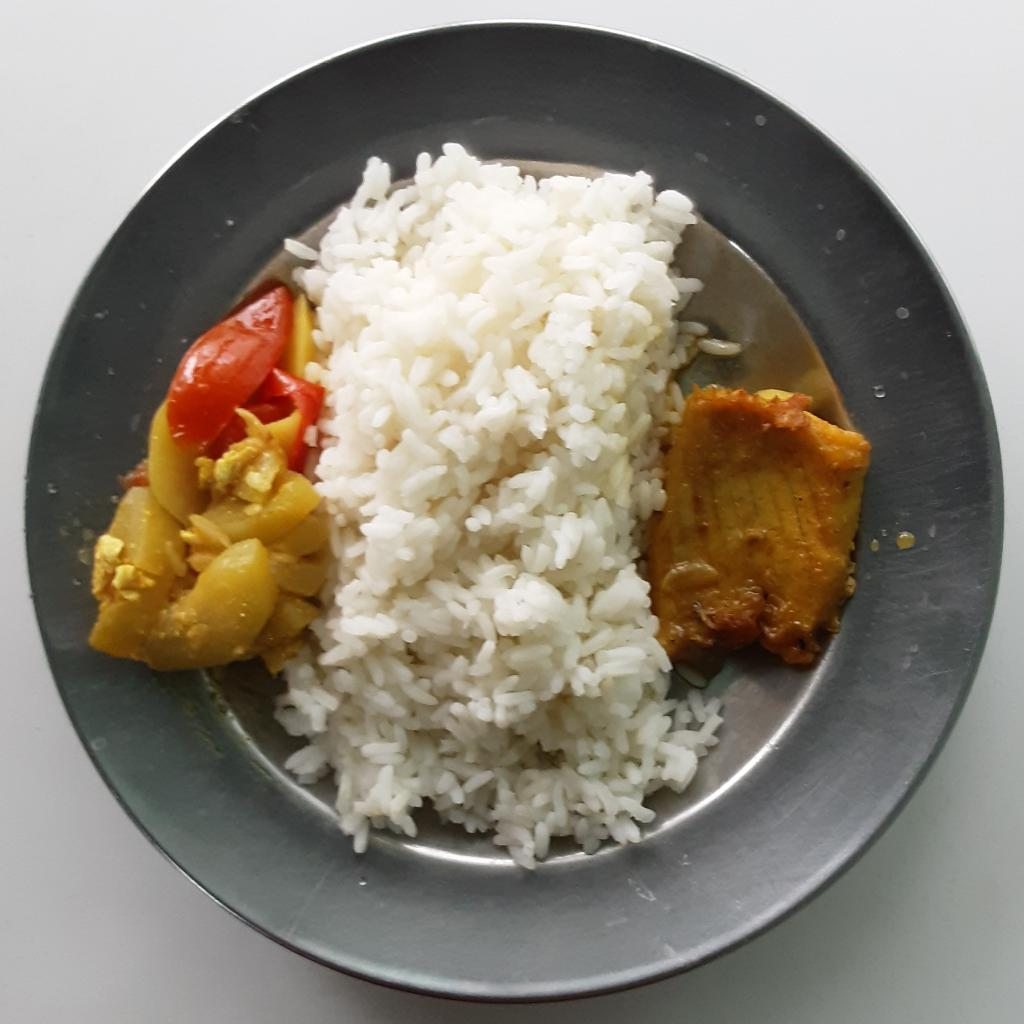fish: (650, 387, 877, 668)
rice: (264, 138, 749, 866)
vegetable: (82, 282, 331, 683)
